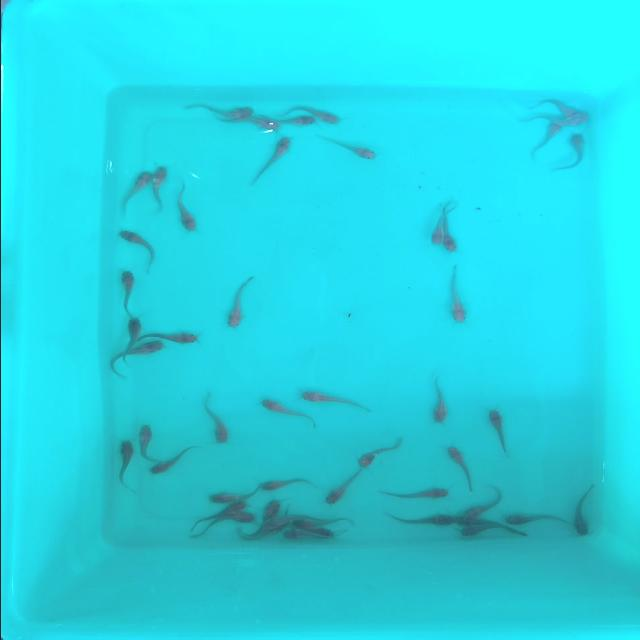lele: (244, 137, 293, 189), (145, 443, 201, 481), (302, 386, 374, 414), (261, 398, 319, 431), (320, 466, 366, 507), (223, 274, 256, 330), (315, 134, 375, 164), (444, 444, 478, 496), (115, 230, 156, 270), (197, 396, 231, 444), (111, 317, 143, 366), (252, 470, 316, 494), (352, 438, 402, 467), (118, 172, 150, 216), (524, 125, 562, 162), (482, 406, 510, 456), (173, 182, 200, 233), (446, 268, 468, 326), (551, 142, 588, 176), (478, 520, 528, 544), (465, 492, 503, 520), (390, 512, 452, 528), (570, 482, 596, 520), (380, 488, 448, 502), (119, 338, 159, 361), (428, 376, 446, 426), (187, 103, 251, 117), (300, 512, 356, 528), (506, 513, 568, 527), (206, 488, 258, 504), (116, 443, 134, 489), (441, 206, 458, 252), (152, 164, 168, 210), (138, 424, 156, 464), (160, 328, 199, 346), (120, 270, 134, 320), (207, 514, 255, 528), (232, 526, 270, 543), (223, 118, 276, 130), (272, 114, 312, 128), (428, 207, 442, 247), (314, 103, 339, 124), (520, 112, 559, 125), (456, 522, 478, 545), (199, 504, 247, 514), (272, 510, 300, 526), (280, 528, 308, 544), (309, 529, 337, 543), (258, 498, 277, 518), (558, 110, 584, 122)
